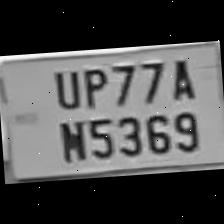3: (112, 110, 143, 158)
5: (82, 114, 116, 160)
6: (139, 108, 172, 156)
7: (105, 58, 138, 106), (132, 55, 164, 104)
9: (167, 104, 200, 154)
A: (163, 52, 196, 102)
N: (53, 116, 87, 162)
P: (75, 62, 109, 110)
U: (47, 64, 81, 111)
